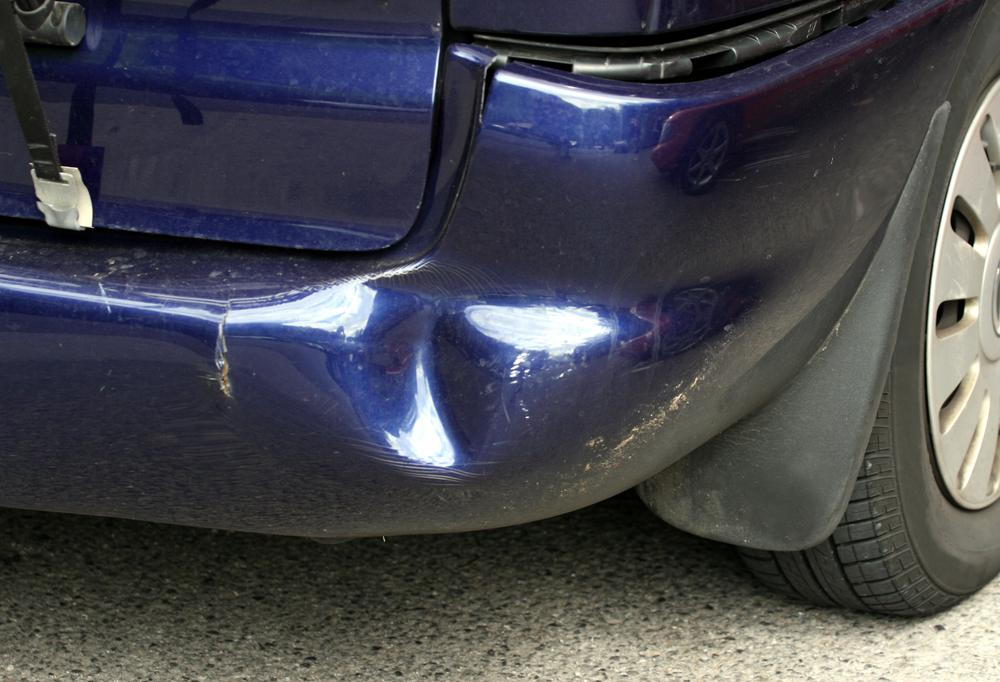crack: (215, 280, 237, 403), (478, 56, 504, 129)
dent: (350, 270, 516, 463)
